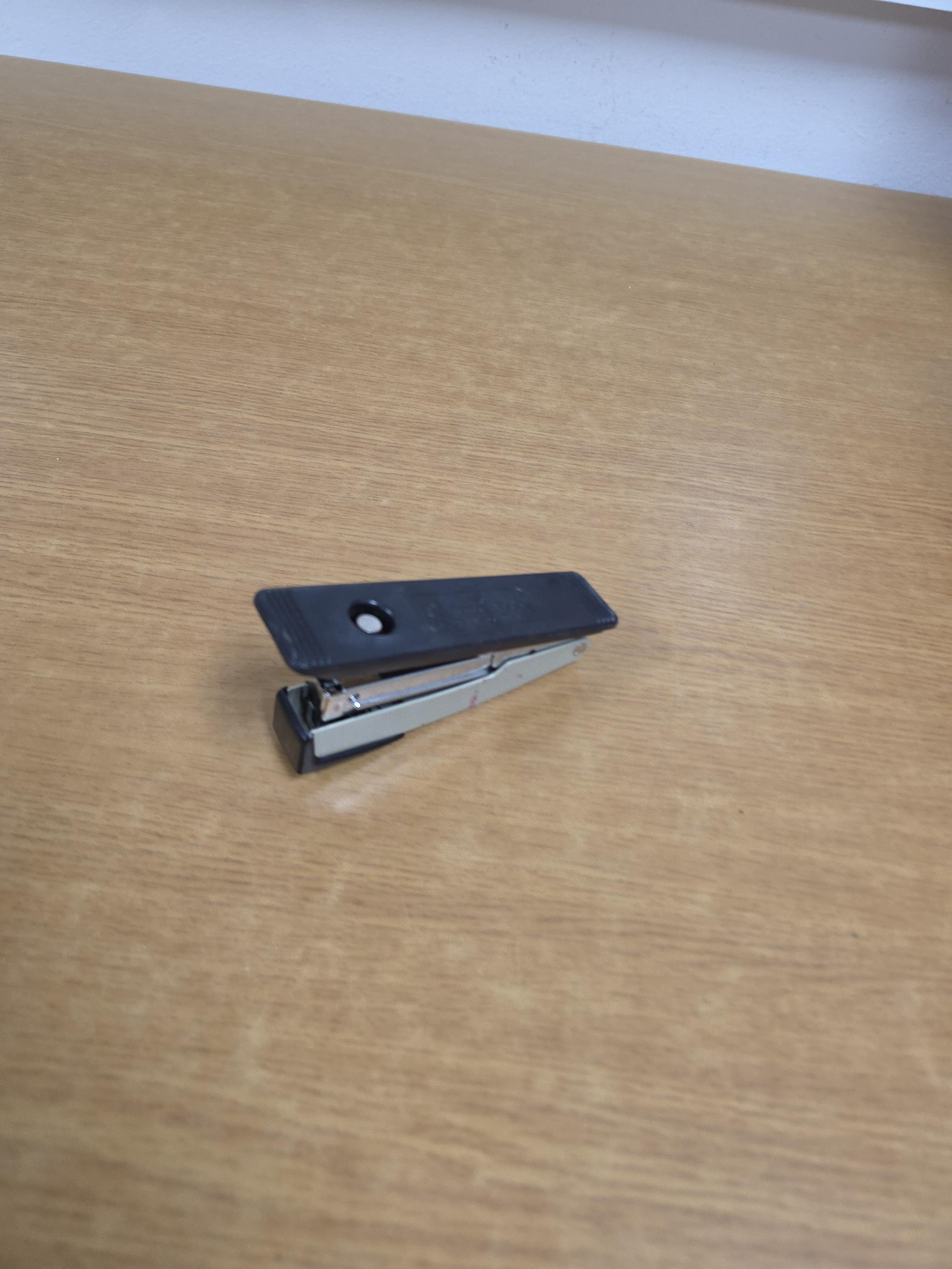stapler: (254, 571, 618, 776)
